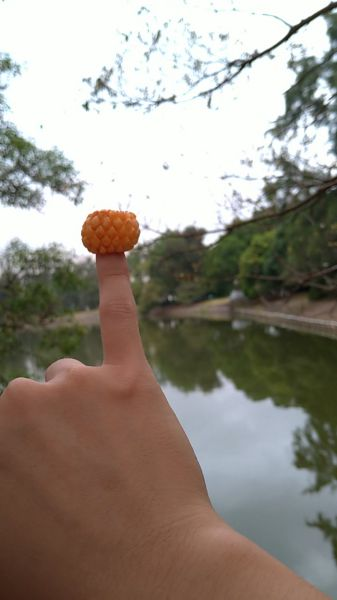eggs: (81, 208, 140, 255)
